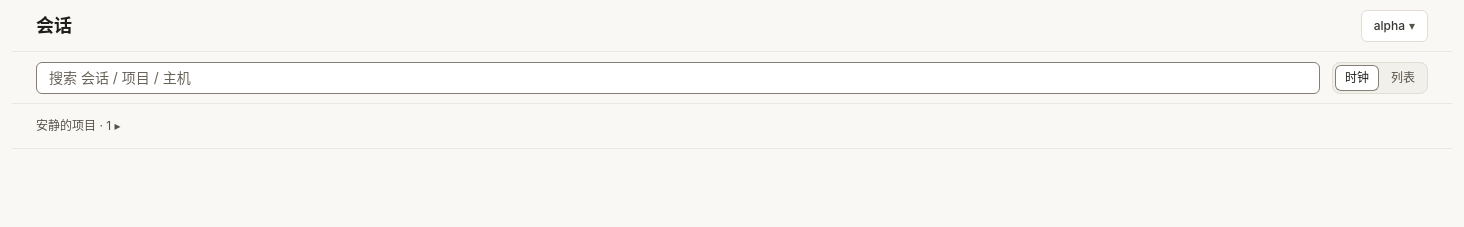
Scenario: HomeList §8 freshness states › separates a search with no matches: 没有匹配的会话 with 清除搜索
Type "nothing-matches-this" into the search field with test id "home-search". click: (678, 78)
box: [36, 62, 1320, 94]
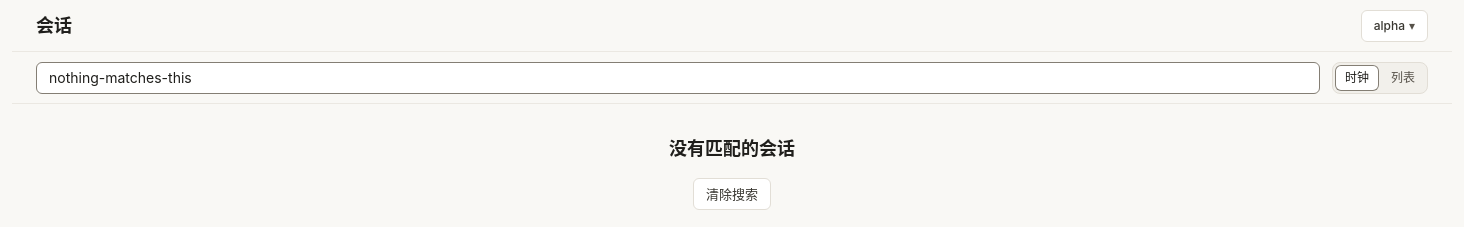
Check: the element with test id "home-empty" shows "没有匹配的会话", box [669, 138, 795, 159]
Click the button with test id "home-empty-clear". click: (732, 194)
box: [693, 178, 771, 210]
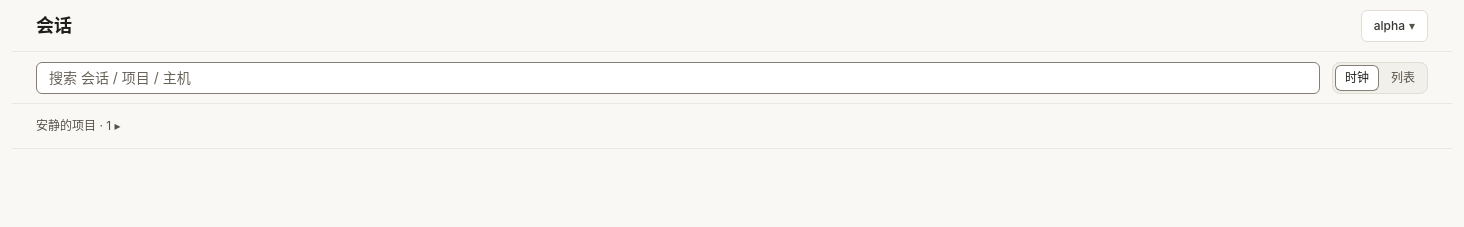
Check: the search field with test id "home-search" is empty, box [36, 62, 1320, 94]
